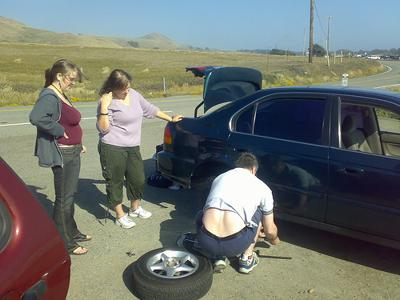person: (195, 150, 282, 275)
